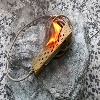fire: (45, 21, 62, 46)
